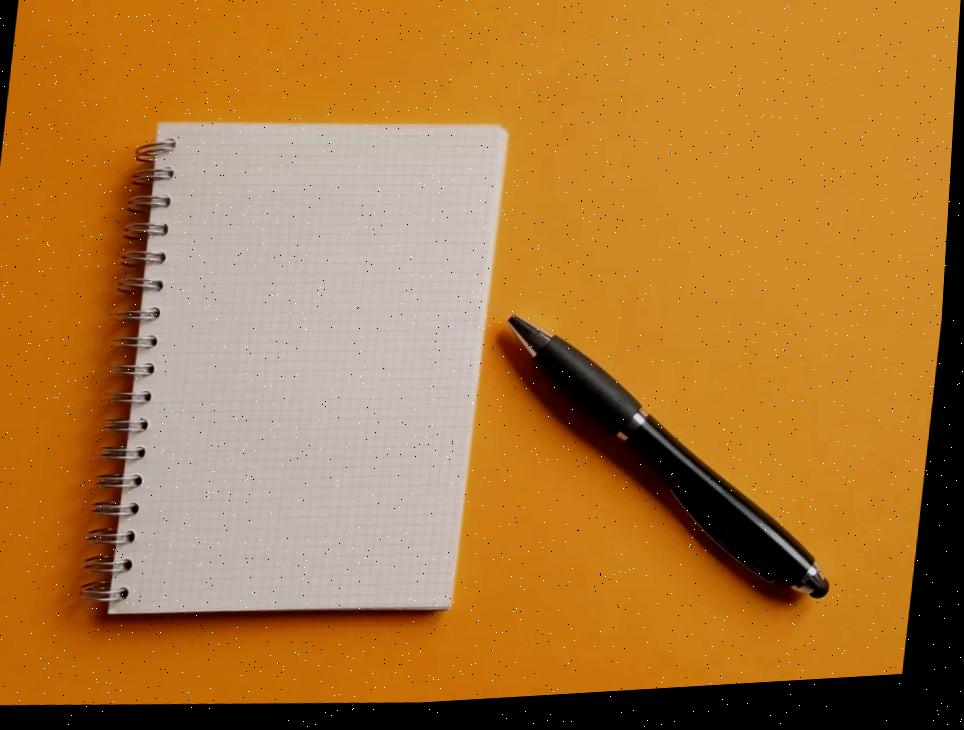pen-pencil: (509, 316, 828, 597)
